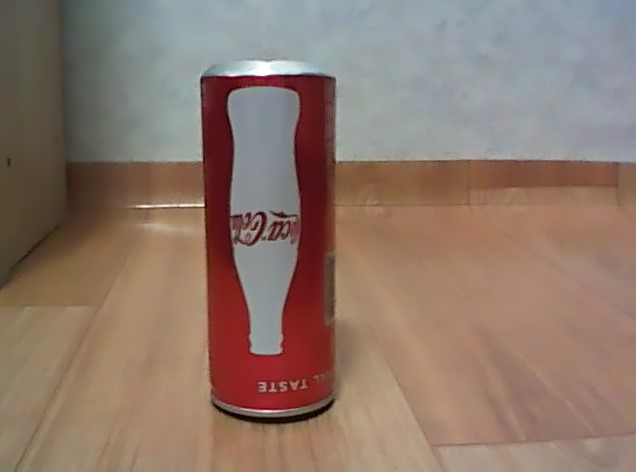Can: (196, 57, 344, 431)
